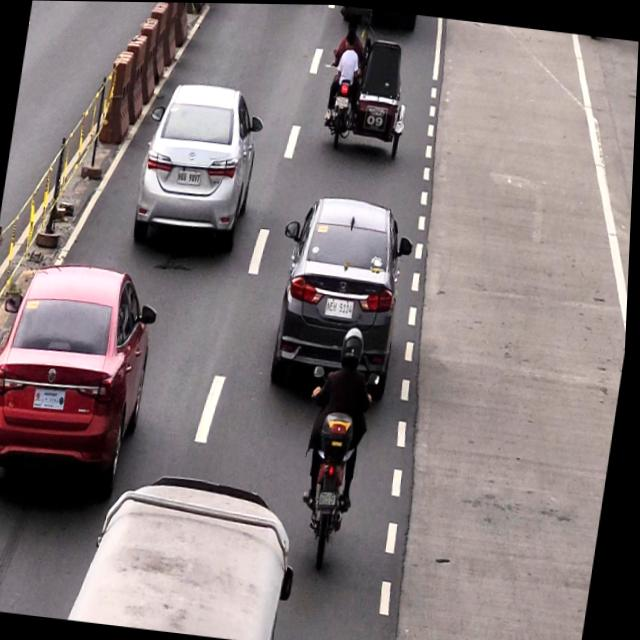Car: (0, 257, 158, 498), (132, 73, 259, 249)
Jeep: (77, 464, 303, 640)
License-Plate: (35, 385, 69, 413), (327, 295, 357, 322), (176, 167, 204, 186), (320, 486, 342, 505)
Motorcycle: (301, 326, 373, 561)
Tricycle: (326, 19, 414, 149)
